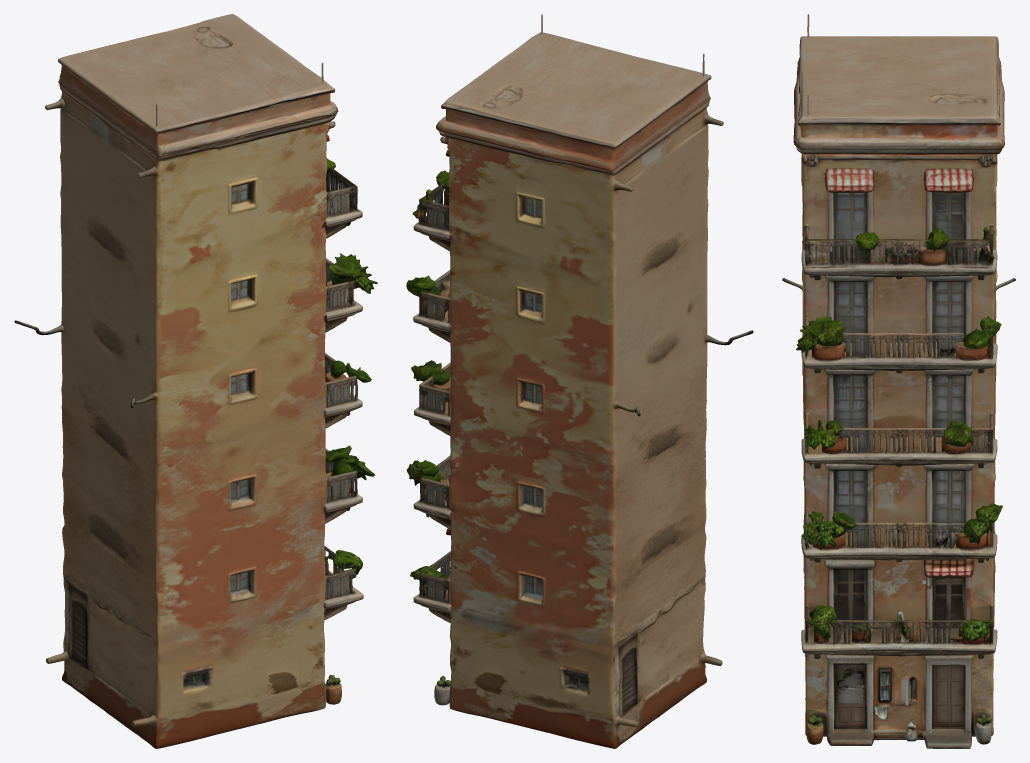
The model's file is naples-balcony-house.glb.
3 renders of one model, left to right at view 1: azimuth 30°, elevation 25°; view 2: azimuth 150°, elevation 25°; view 3: azimuth 270°, elevation 25°, orthographic. The views are drawn at different scales.
Visible parts, largest first — view 1: tripo_node_957ca4a4-3375-4ff5-8bc5-62a4afbbcbc8; view 2: tripo_node_957ca4a4-3375-4ff5-8bc5-62a4afbbcbc8; view 3: tripo_node_957ca4a4-3375-4ff5-8bc5-62a4afbbcbc8.
Boxes of the visible parts, box(x1,y1,x2,y2) form: tripo_node_957ca4a4-3375-4ff5-8bc5-62a4afbbcbc8: box(14, 14, 377, 748); tripo_node_957ca4a4-3375-4ff5-8bc5-62a4afbbcbc8: box(406, 14, 753, 748); tripo_node_957ca4a4-3375-4ff5-8bc5-62a4afbbcbc8: box(782, 14, 1015, 748).
Size of the model in its own units: 4.26 by 10 by 3.3.
Materials: 1 (1 with a texture image).
